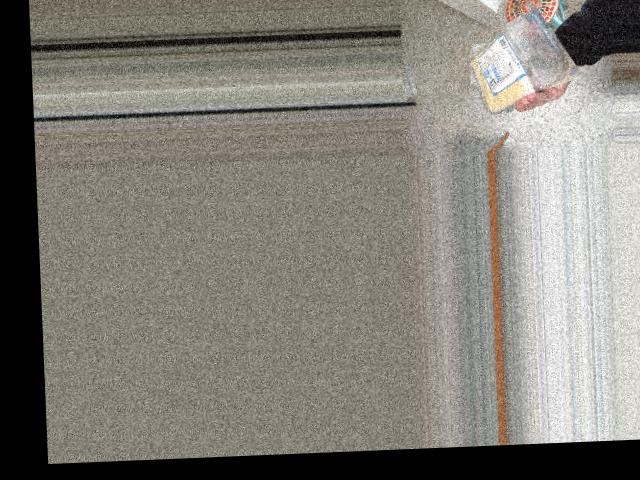cheese: (460, 5, 564, 103)
